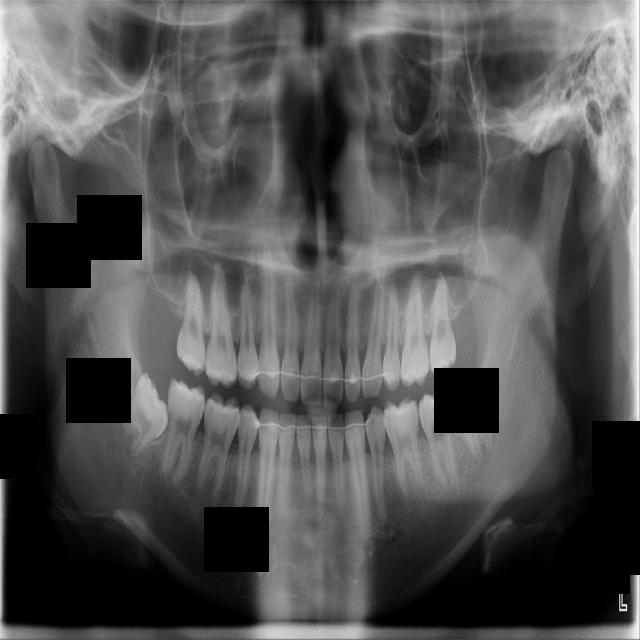73: (612, 578, 618, 592)
BioHorizons Implant: (427, 279, 463, 378)
Biomet 3i Implant: (444, 372, 500, 468)
Blue Sky Bio Implant: (415, 386, 464, 489)
Caries: (170, 270, 209, 378)
Implant: (159, 377, 208, 491)
Keystone Dental Implant: (110, 371, 183, 466)
